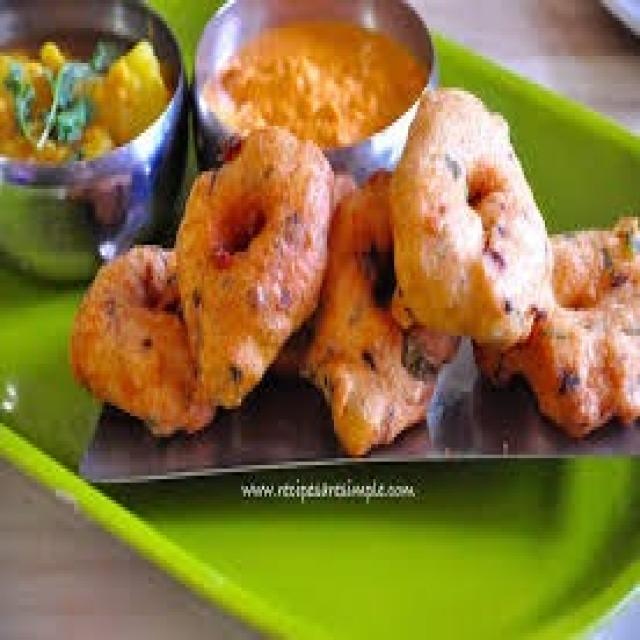medu vadai: (61, 117, 640, 476), (389, 86, 553, 350), (70, 243, 216, 437), (184, 126, 329, 305), (401, 90, 526, 190)
